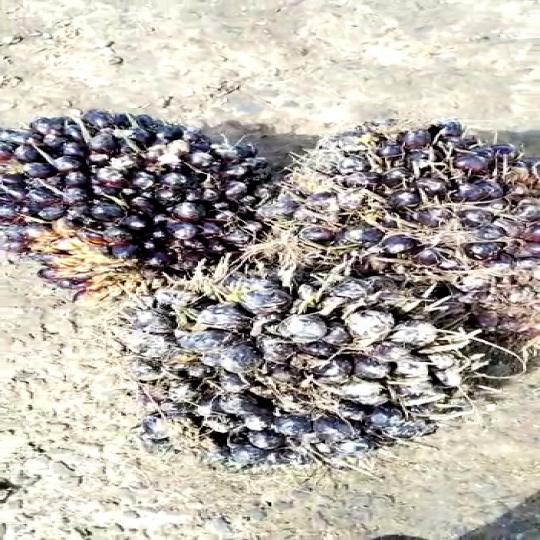mentah: (136, 268, 492, 463), (259, 110, 540, 304), (0, 93, 256, 301)
